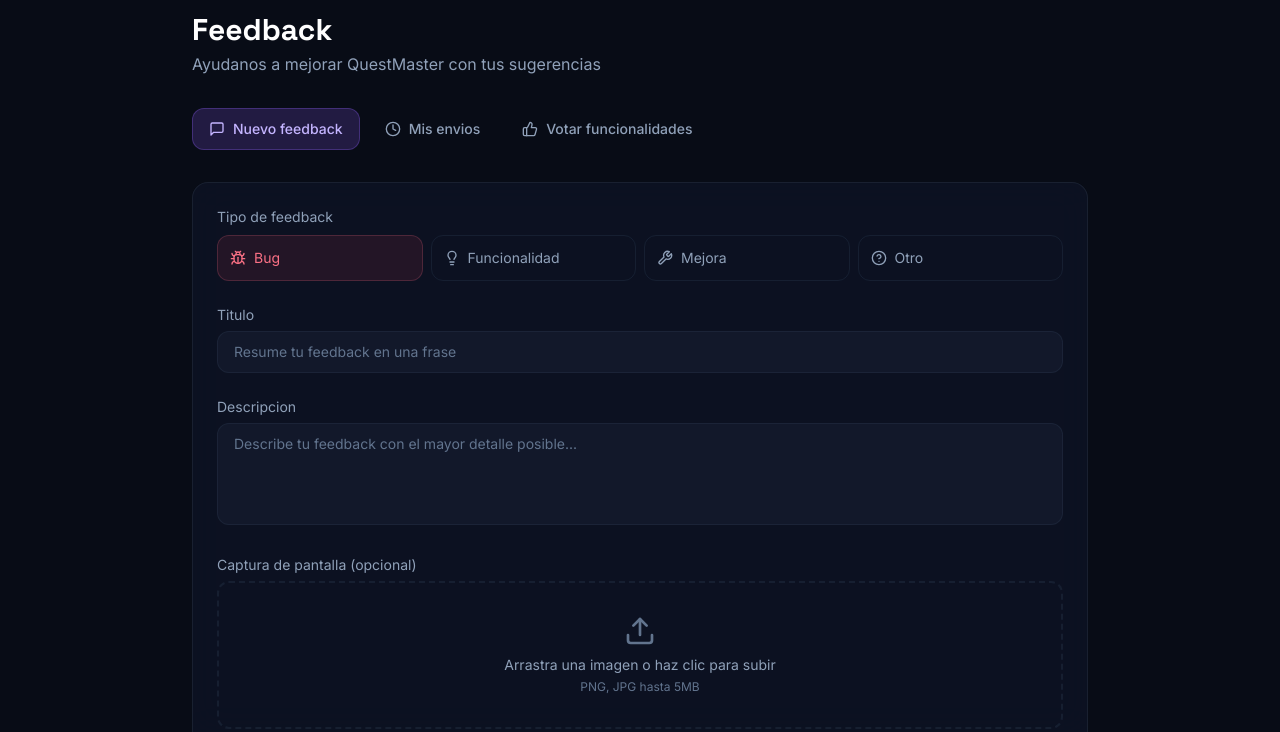
Test: FeedbackPage › switches to history tab
Click the button "Mis envios" at (432, 129), box [368,108,497,150]
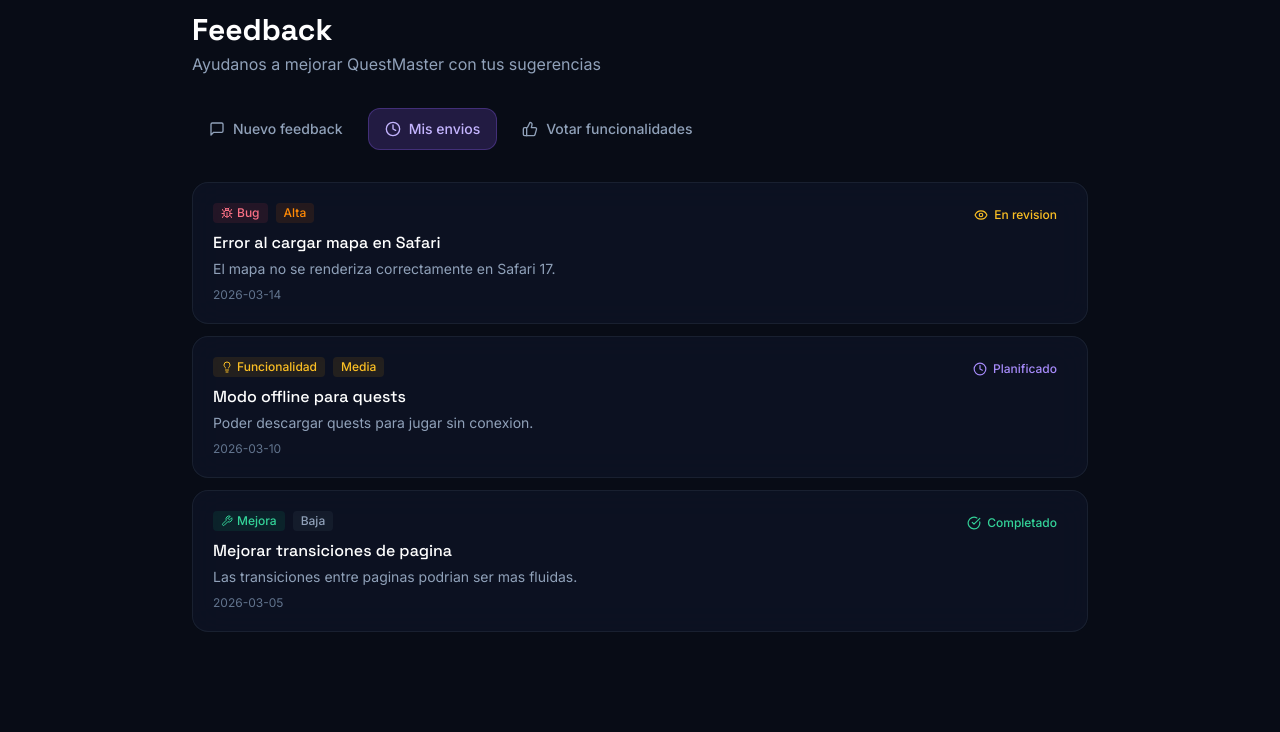
Result: the heading "Error al cargar mapa en Safari" is shown at [213,232,440,253]
Result: the heading "Modo offline para quests" is shown at [213,386,406,407]
